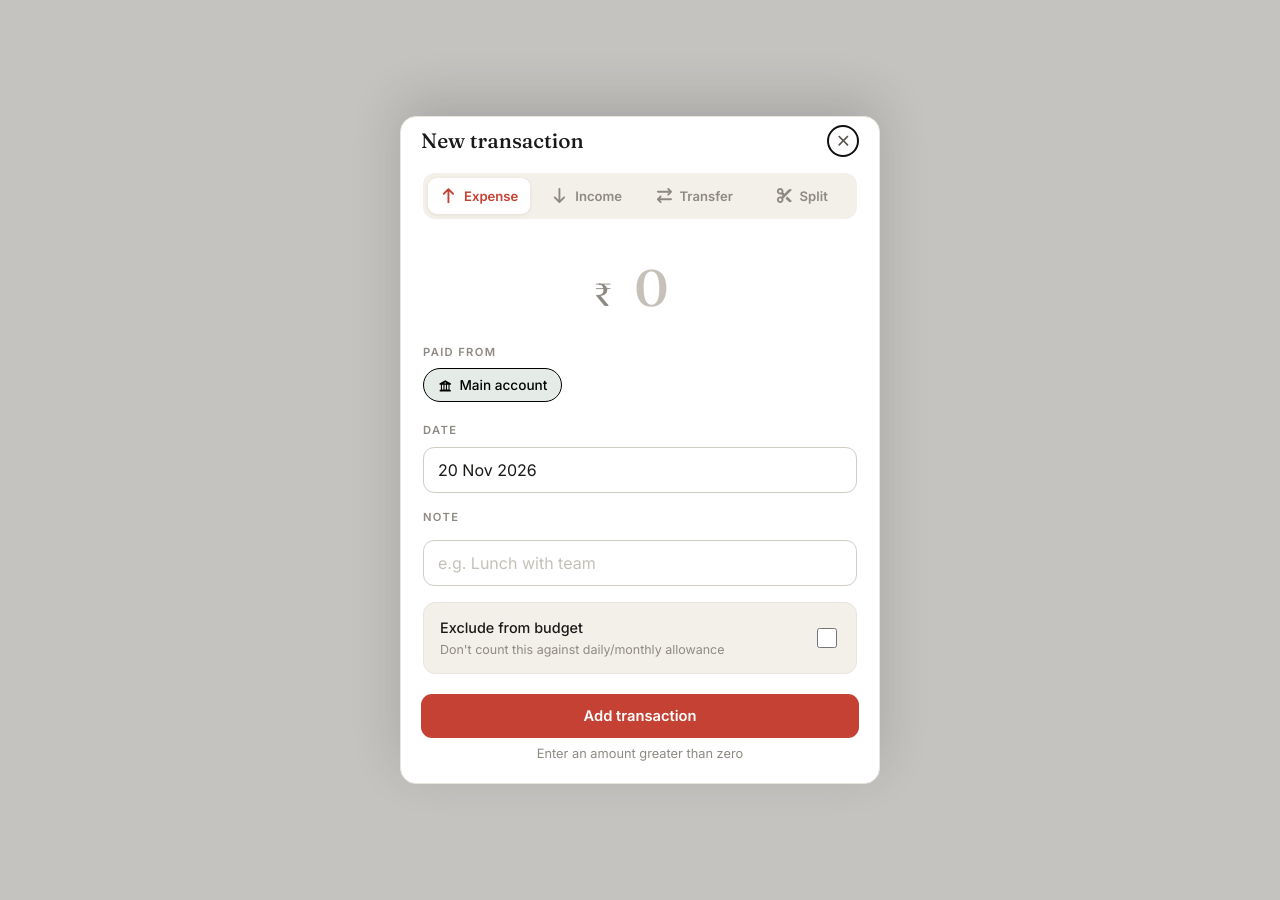
Scenario: AddTransactionSheet › keeps the form open and announces a server error
Step 1. Type "25" into the field named "Amount" → [651, 287], box [616,254,686,320]
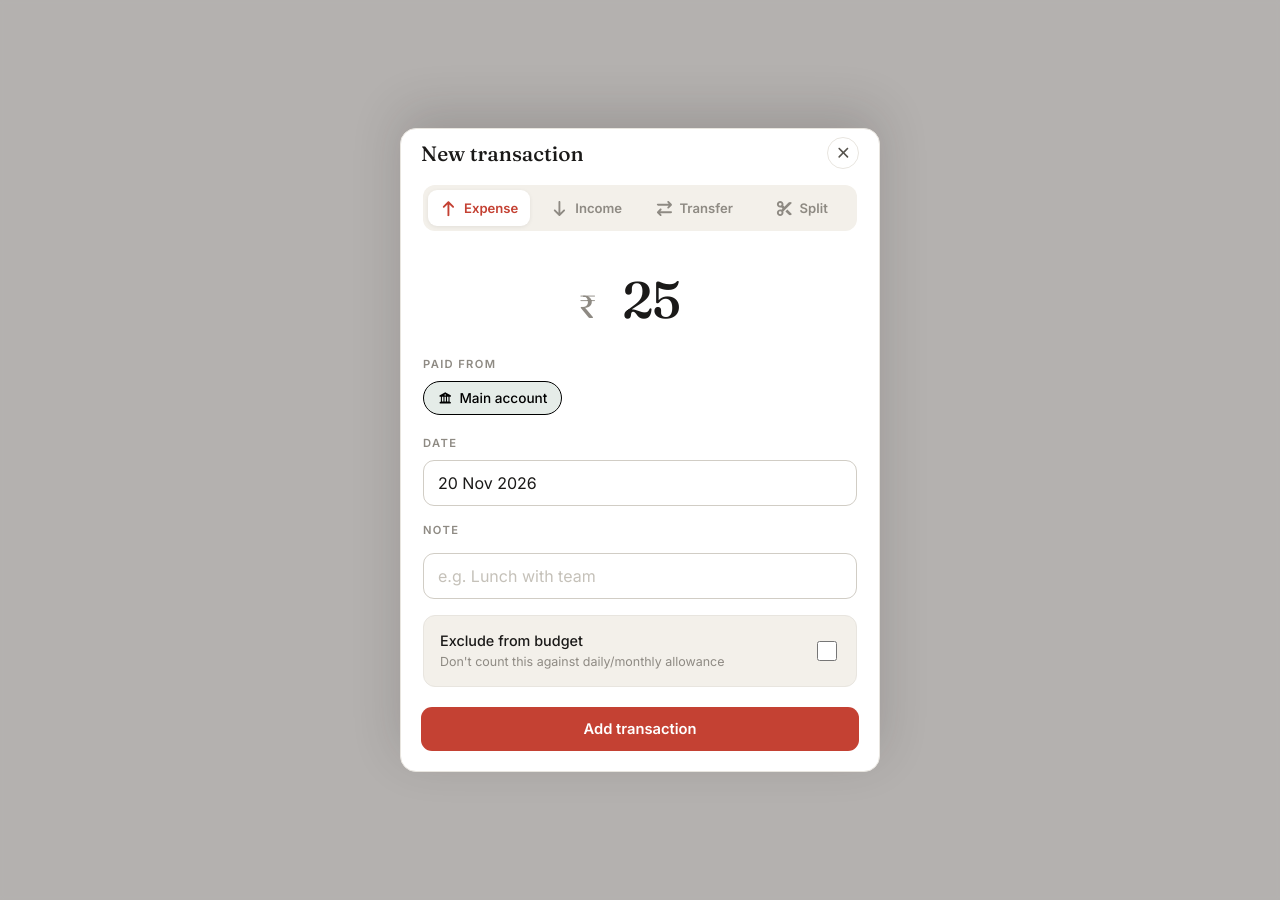
Step 2. Click the button "Add transaction" → [640, 729], box [421,707,859,751]
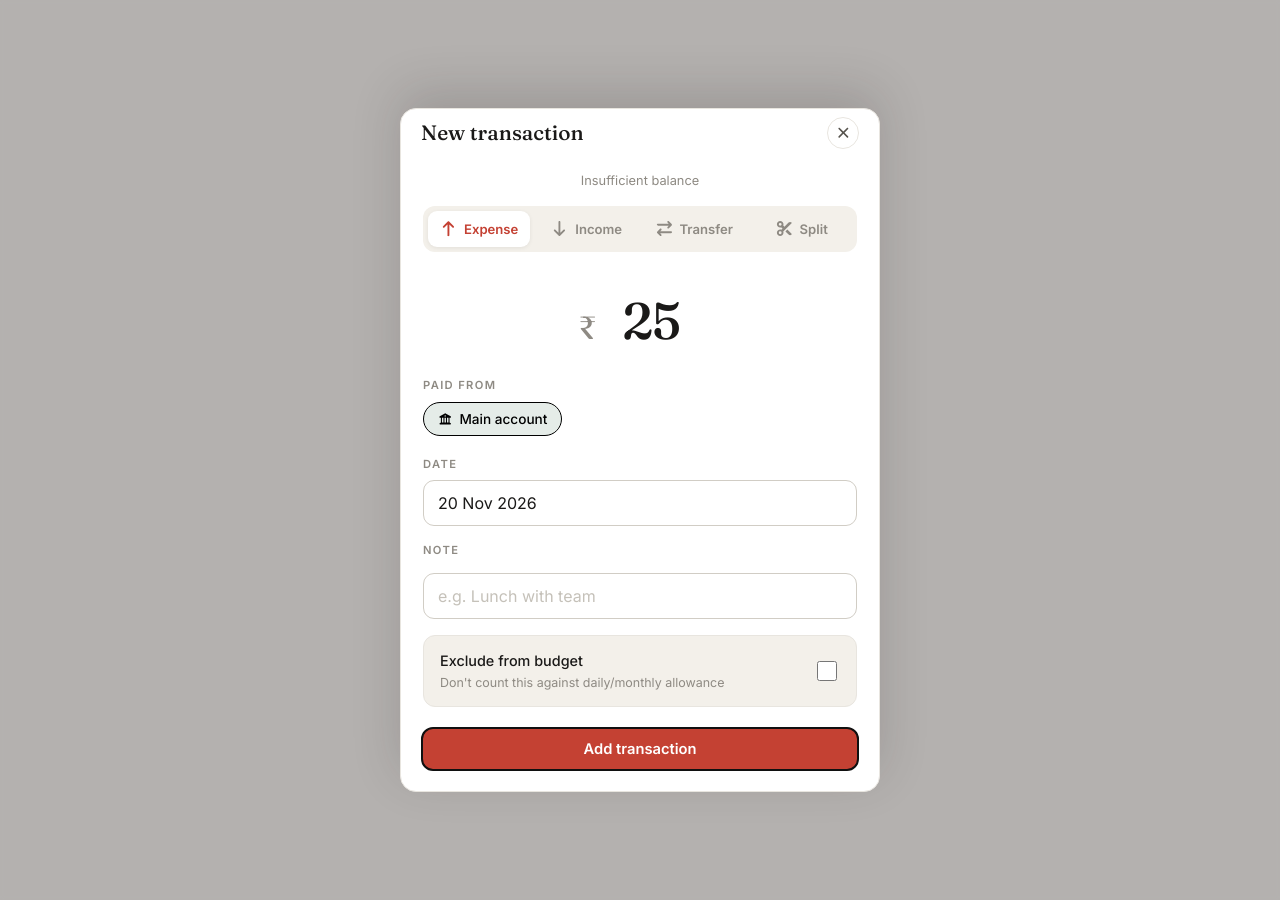
Expected: the button "Add transaction" is shown, [421,728,859,772]
Expected: the message reads "Insufficient balance", [581,172,699,188]
